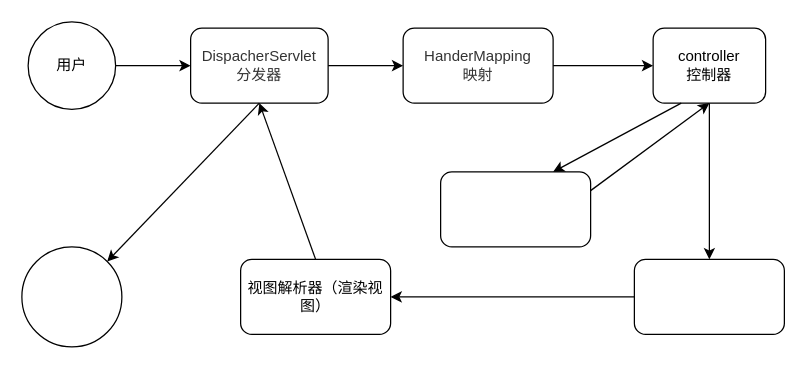
The diagram is 806 pixels wide and 369 high, and some of its shapes have lost their labels. The centre of each missing label's shape, as x and y in pixels:
JSP显示Model数据: (x=71, y=296)
ModelAndView: (x=708, y=296)
service业务逻辑层: (x=515, y=209)
